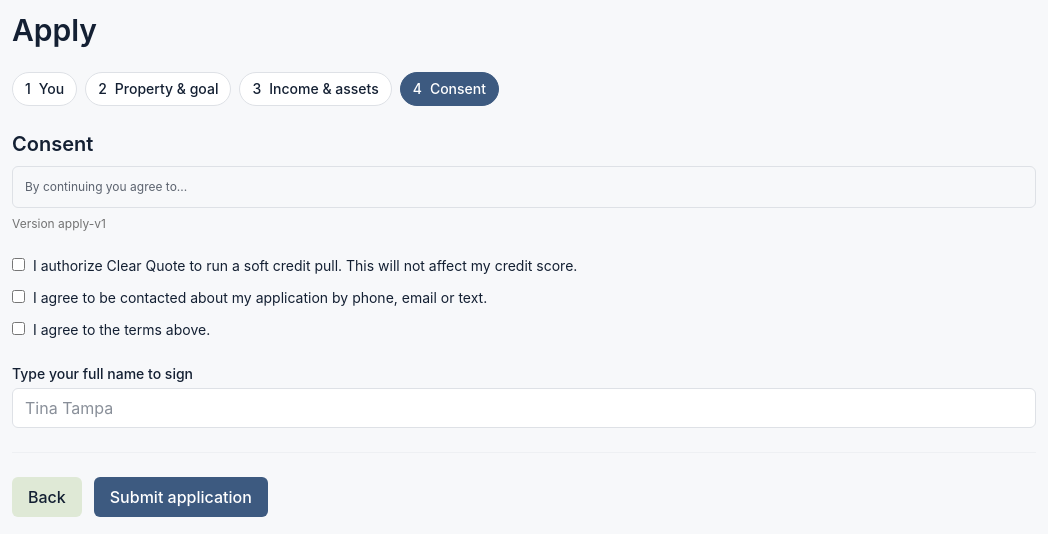
Scenario: ApplyWizard › submitting on the consent tab shows the confirmation screen (AC1 shape)
Click the button "Submit application" at (181, 497), box x1=94 y1=477 x2=268 y2=517
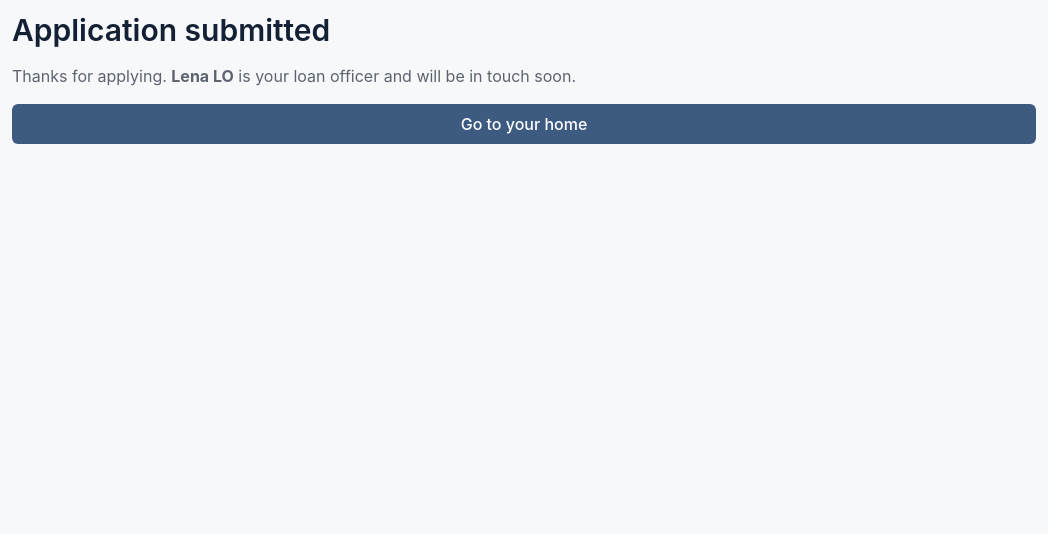
Check: the heading "Application submitted" is shown, box x1=12 y1=12 x2=330 y2=48
Check: the text "Lena LO" is shown, box x1=171 y1=66 x2=234 y2=86
